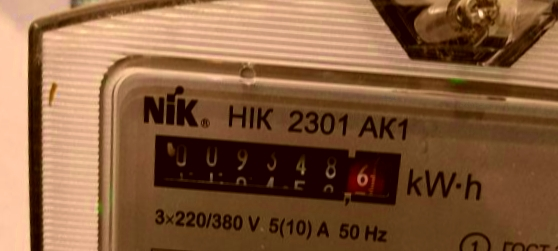0: (171, 142, 189, 169), (202, 141, 218, 168)
3: (263, 146, 279, 172)
4: (290, 146, 310, 178)
6: (352, 159, 371, 189)
8: (322, 152, 339, 181)
9: (233, 146, 249, 174)
screen: (132, 119, 415, 218)
